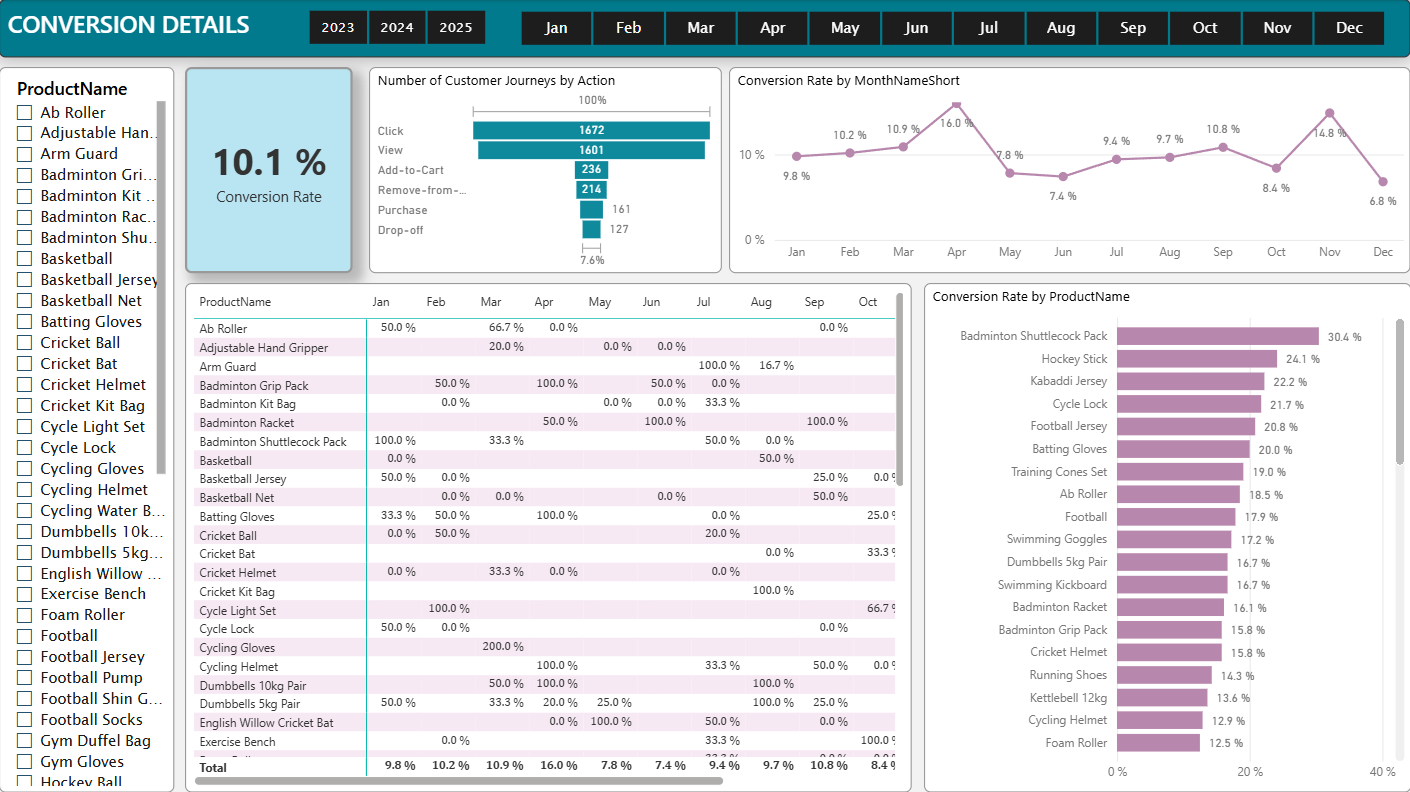

The dashboard page shown, as its layout file describes it:
{"tool":"powerbi","page":{"name":"Conversion Details","canvas":[1280,720],"ordinal":1},"visuals":[{"type":"textbox","box":[0,0,1280.4,52.6],"z":0},{"type":"slicer","fields":{"Values":["dim_products.ProductName"]},"box":[0,61.9,159.4,658.4],"z":1000},{"type":"card","fields":{"Values":["_Calculations.Conversion Rate"]},"box":[168.7,61.7,152.3,186.8],"z":2000},{"type":"lineChart","fields":{"Y":["_Calculations.Conversion Rate"],"Category":["Calendar.MonthNameShort"]},"box":[662,61.7,618.4,186.8],"z":3000},{"type":"clusteredBarChart","fields":{"Category":["dim_products.ProductName"],"Y":["_Calculations.Conversion Rate"]},"box":[838.8,257.5,441.6,462.5],"z":4000},{"type":"slicer","fields":{"Values":["Calendar.Year"]},"box":[255.7,3.6,208.6,44.4],"z":5000},{"type":"slicer","fields":{"Values":["Calendar.MonthNameShort"]},"box":[448,4.6,832.3,43.7],"z":6000},{"type":"funnel","fields":{"Category":["fact_customer_journey.Action"],"Y":["_Calculations.Number of Customer Journeys"]},"box":[335.5,61.7,320.1,186.8],"z":7000},{"type":"pivotTable","fields":{"Rows":["dim_products.ProductName"],"Columns":["Calendar.MonthNameShort"],"Values":["_Calculations.Conversion Rate"]},"box":[168.7,257.5,659.2,462.5],"z":8000}]}

Visuals, with their boxes in screenshot pixels (x1, y1, x2, y2), scaled from the page's 1280x720 canvas onto the 1410x792 screenshot:
textbox: 0/0/1409/58
slicer - dim_products.ProductName: 0/68/176/791
card - _Calculations.Conversion Rate: 186/68/354/273
lineChart - _Calculations.Conversion Rate x Calendar.MonthNameShort: 729/68/1409/273
clusteredBarChart - dim_products.ProductName x _Calculations.Conversion Rate: 924/283/1409/791
slicer - Calendar.Year: 282/4/511/53
slicer - Calendar.MonthNameShort: 494/5/1409/53
funnel - fact_customer_journey.Action x _Calculations.Number of Customer Journeys: 370/68/722/273
pivotTable - dim_products.ProductName x Calendar.MonthNameShort: 186/283/912/791
